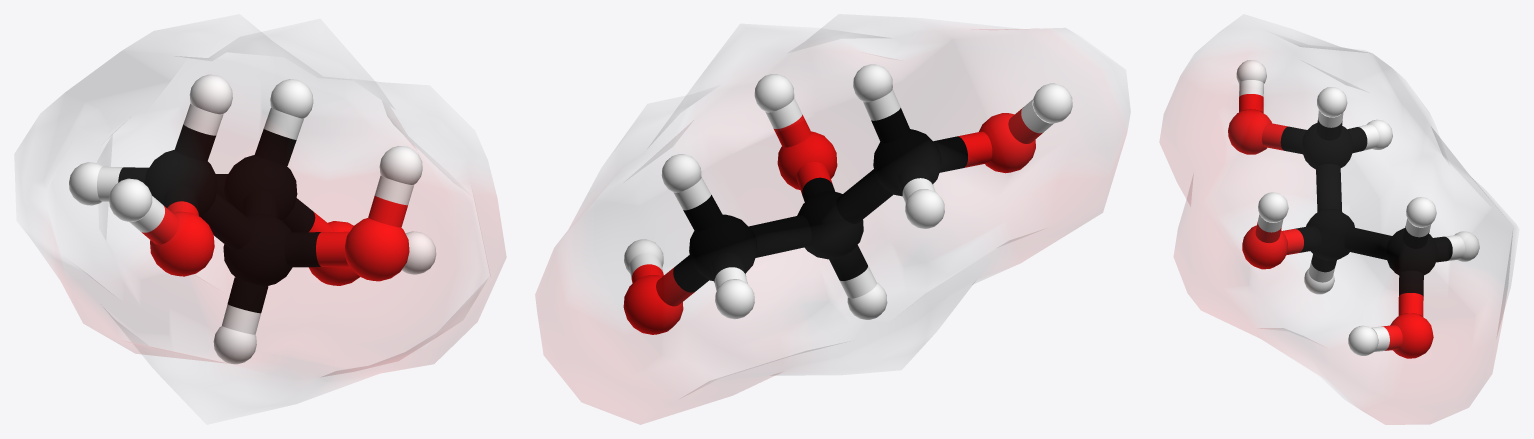
3 views of the same model, side by side, from view 1: azimuth 30°, elevation 25°; view 2: azimuth 150°, elevation 25°; view 3: azimuth 270°, elevation 25° (orthographic). The views are drawn at different scales.
Parts seen in each view (by area): view 1: matsym_0, primitive_color (×30); view 2: matsym_0, primitive_color (×30); view 3: matsym_0, primitive_color (×28).
Part boxes in pixels (bbox=[...]): matsym_0: bbox=[15, 14, 505, 423]; primitive_color (×30): bbox=[69, 74, 436, 364]; matsym_0: bbox=[535, 14, 1130, 424]; primitive_color (×30): bbox=[623, 64, 1072, 334]; matsym_0: bbox=[1160, 15, 1518, 424]; primitive_color (×28): bbox=[1228, 60, 1479, 358].
Bounding box in the file's own units: 6.63 × 5.44 × 5.83.
